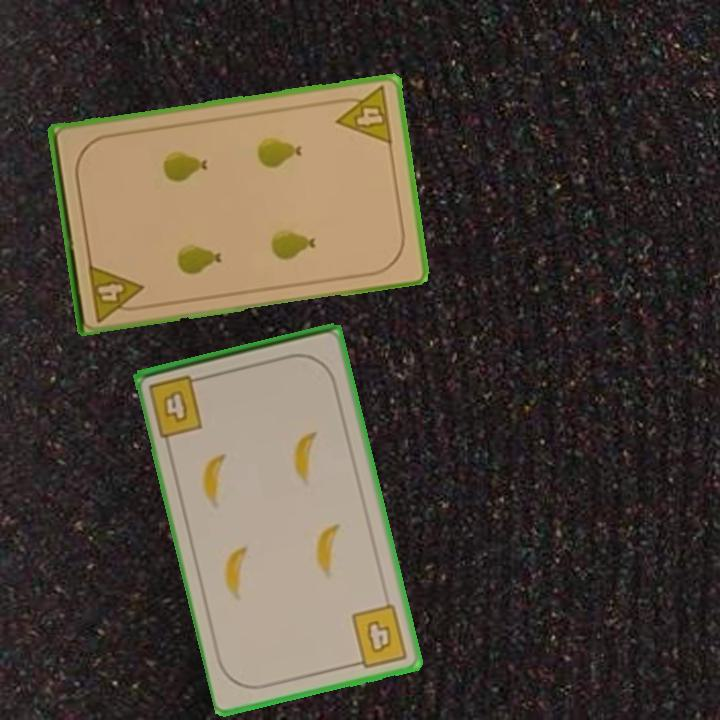4b: (145, 371, 209, 440), (348, 601, 411, 671)
4p: (330, 83, 395, 148), (84, 260, 148, 325)
